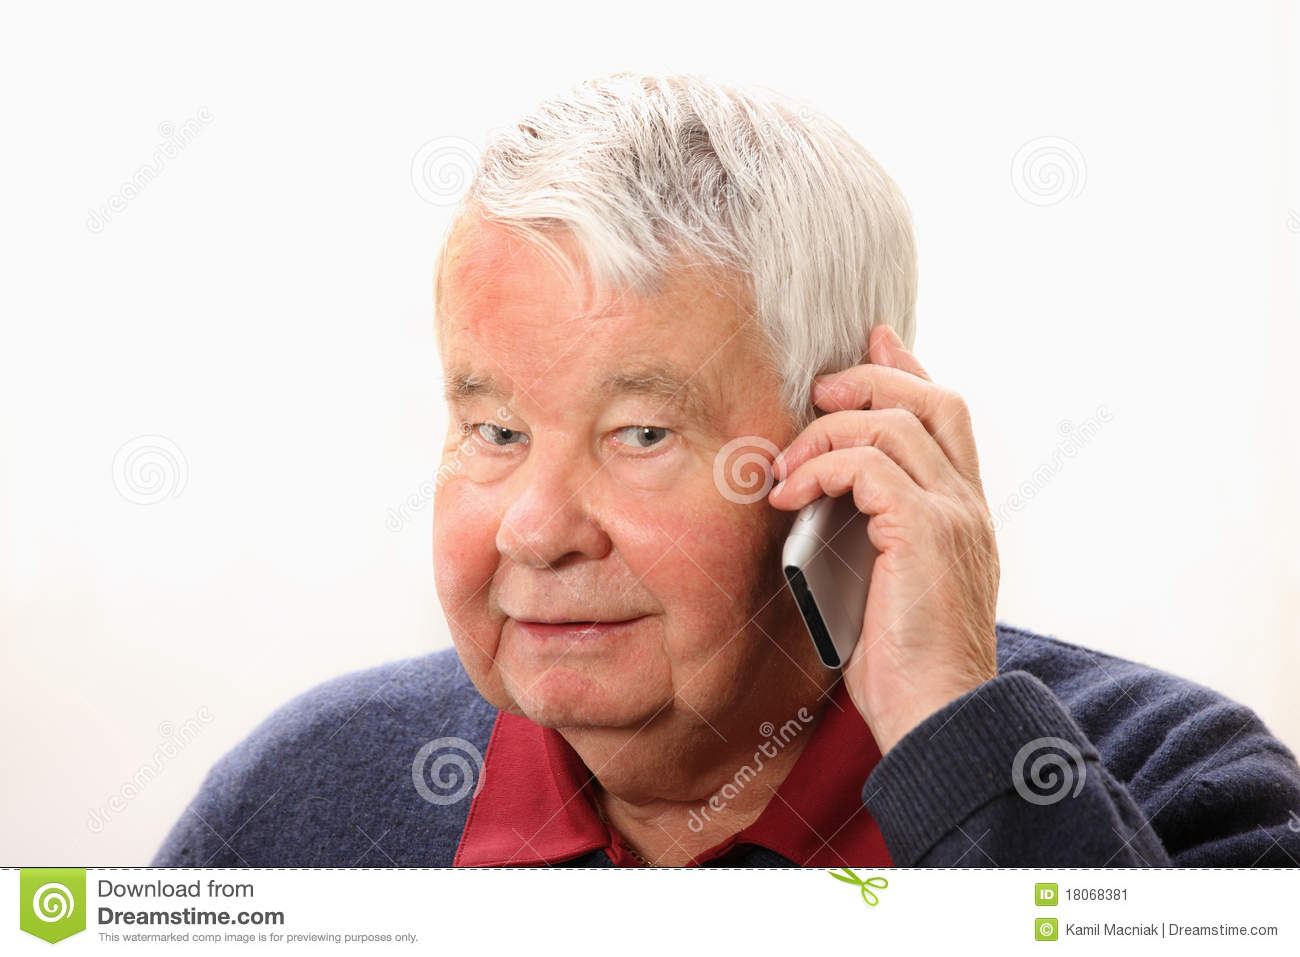phone: (777, 424, 874, 672)
talk: (435, 326, 999, 777)
